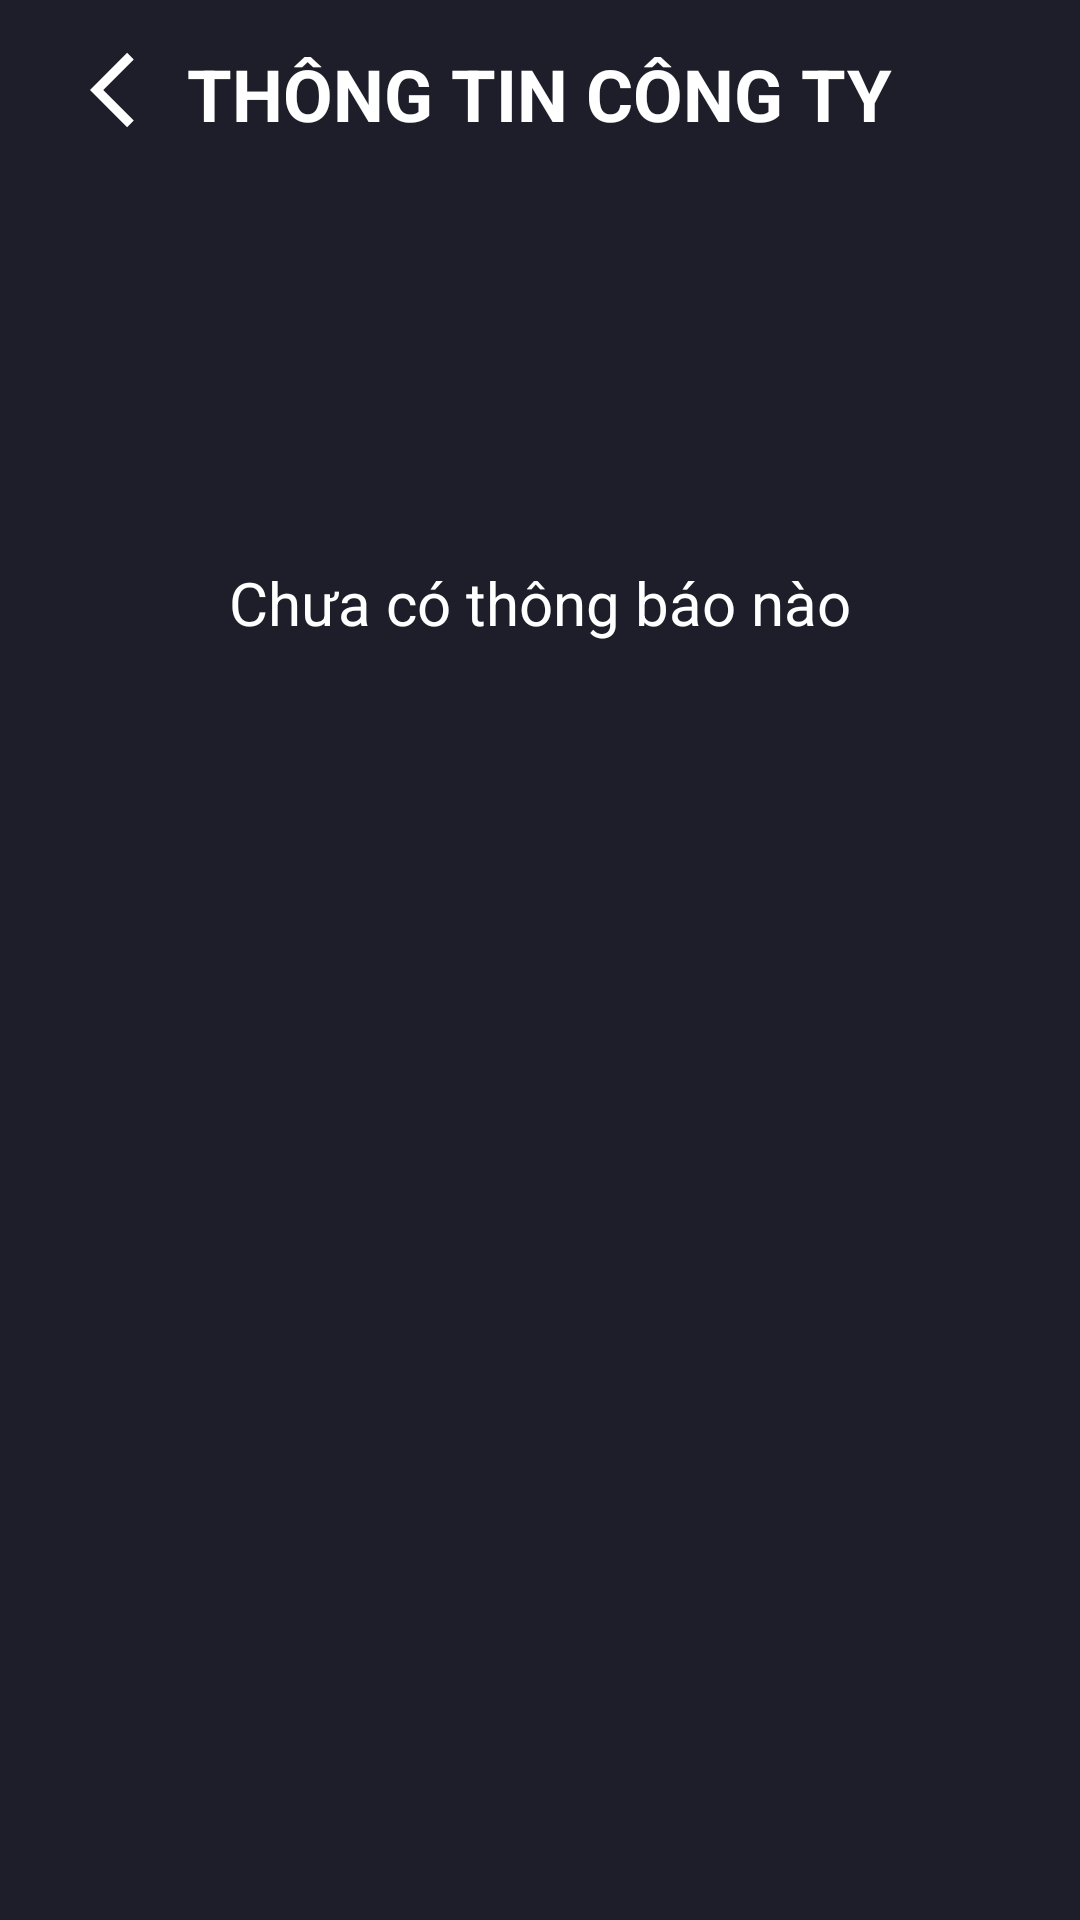

Named icons in this screenshot (1080px×1920px) and their bounding boxes, [x1, y1, x2, y2]:
back arrow: [90, 53, 134, 127]
